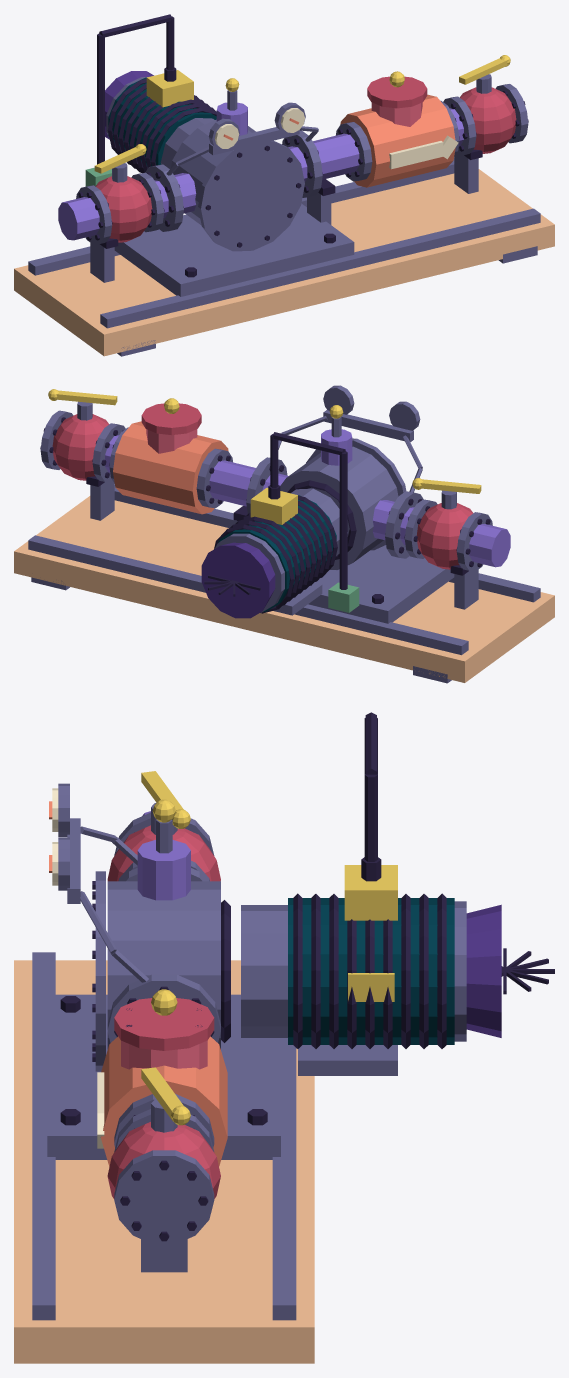
The model's file is circulateur.glb.
3 renders of one model, top to bottom at view 1: azimuth 30°, elevation 25°; view 2: azimuth 150°, elevation 25°; view 3: azimuth 270°, elevation 25°, orthographic. The views are drawn at different scales.
Parts seen in each view (by area): view 1: circulateur_steel, circulateur_sand, circulateur_dark, circulateur_crimson, circulateur_violet, circulateur_coral, circulateur_yellow, circulateur_teal, circulateur_cream, circulateur_rose, circulateur_indigo; view 2: circulateur_steel, circulateur_sand, circulateur_dark, circulateur_crimson, circulateur_coral, circulateur_violet, circulateur_indigo, circulateur_yellow, circulateur_teal, circulateur_rose, circulateur_sage; view 3: circulateur_steel, circulateur_sand, circulateur_dark, circulateur_teal, circulateur_crimson, circulateur_yellow, circulateur_coral, circulateur_indigo, circulateur_violet, circulateur_rose, circulateur_cream.
Part boxes in pixels (x1,y1,x2,y2): circulateur_steel: (28, 74, 540, 356); circulateur_sand: (14, 169, 554, 356); circulateur_dark: (78, 14, 528, 277); circulateur_crimson: (95, 76, 516, 242); circulateur_violet: (58, 102, 463, 240); circulateur_coral: (340, 94, 455, 187); circulateur_yellow: (94, 55, 510, 173); circulateur_teal: (108, 77, 216, 166); circulateur_cream: (214, 108, 458, 169); circulateur_rose: (371, 102, 422, 126); circulateur_indigo: (105, 71, 153, 139); circulateur_steel: (28, 385, 540, 683); circulateur_sand: (14, 496, 554, 682); circulateur_dark: (40, 417, 490, 613); circulateur_crimson: (52, 403, 473, 569); circulateur_coral: (113, 421, 228, 514); circulateur_violet: (105, 429, 510, 567); circulateur_indigo: (201, 542, 275, 618); circulateur_yellow: (48, 389, 481, 524); circulateur_teal: (218, 495, 336, 611); circulateur_rose: (146, 429, 197, 453); circulateur_sage: (328, 582, 359, 612); circulateur_steel: (32, 783, 466, 1320); circulateur_sand: (14, 960, 314, 1363); circulateur_dark: (60, 712, 554, 1241); circulateur_teal: (288, 898, 454, 1044); circulateur_crimson: (107, 825, 220, 1199); circulateur_yellow: (141, 771, 397, 1125); circulateur_coral: (100, 1036, 227, 1166); circulateur_indigo: (466, 904, 501, 1037); circulateur_violet: (137, 811, 190, 900); circulateur_rose: (121, 1040, 207, 1069); circulateur_cream: (52, 788, 104, 1148).
Bounding box in the file's own units: 2.63 × 1.25 × 1.62.
